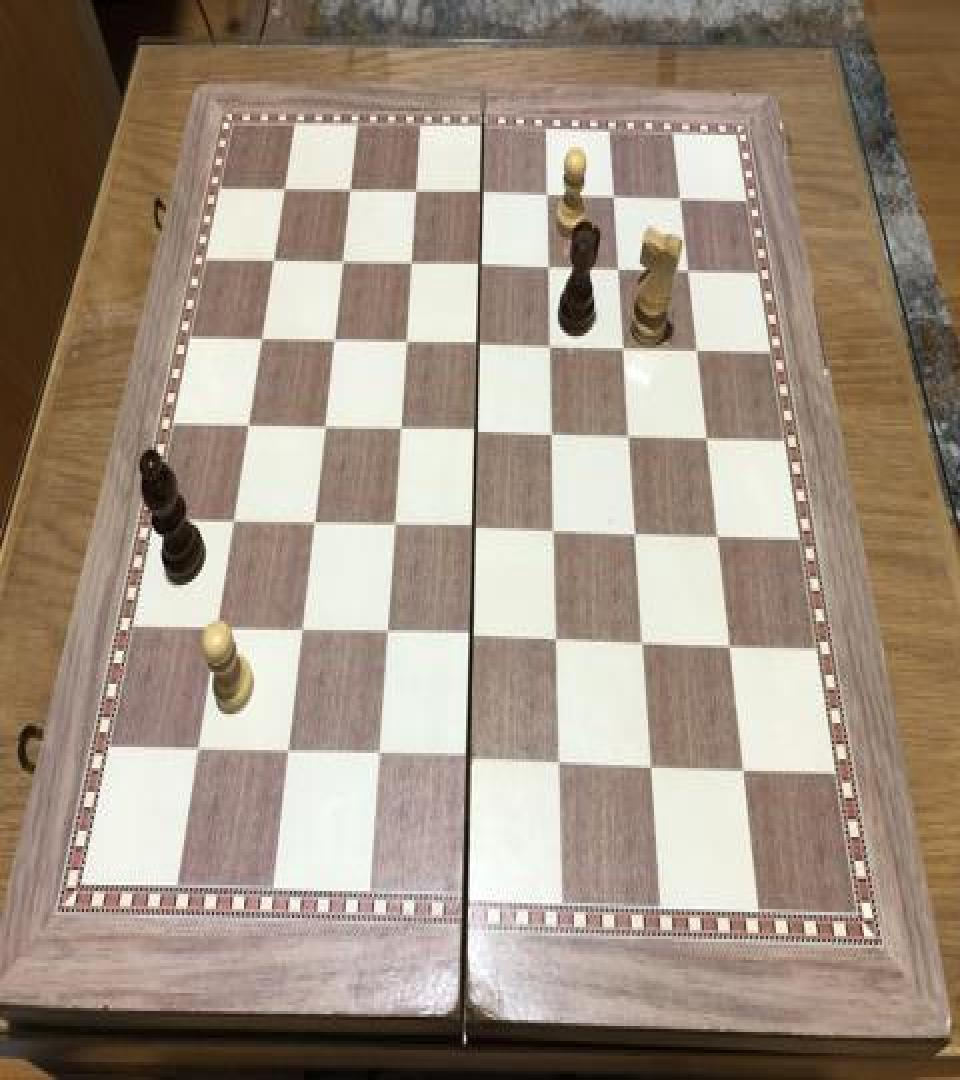xcorner: (704, 514, 728, 551), (716, 625, 740, 662), (629, 622, 653, 659), (372, 616, 396, 653), (363, 739, 387, 776), (184, 733, 208, 770), (667, 177, 691, 213), (601, 176, 625, 212), (535, 176, 559, 212), (469, 174, 493, 210), (404, 174, 428, 210), (675, 249, 699, 285), (605, 248, 629, 284), (536, 248, 560, 284), (467, 246, 491, 282), (399, 244, 423, 280), (330, 244, 354, 280), (262, 243, 286, 279), (610, 327, 634, 363), (538, 326, 562, 362), (465, 324, 489, 360), (393, 324, 417, 360), (321, 322, 345, 358), (250, 321, 274, 357), (693, 417, 717, 453), (616, 416, 640, 452), (539, 414, 563, 450), (387, 411, 411, 447), (311, 410, 335, 446), (236, 408, 260, 444), (622, 513, 646, 549), (541, 512, 565, 548), (460, 510, 484, 546), (380, 507, 404, 543), (300, 506, 324, 542), (221, 504, 245, 540), (543, 621, 567, 657), (457, 618, 481, 654), (288, 614, 312, 650), (203, 612, 227, 648), (730, 750, 754, 786), (637, 747, 661, 783), (545, 744, 569, 780), (454, 741, 478, 777), (273, 736, 297, 772), (338, 173, 362, 208), (274, 173, 298, 208), (684, 329, 708, 364), (463, 413, 487, 448)
